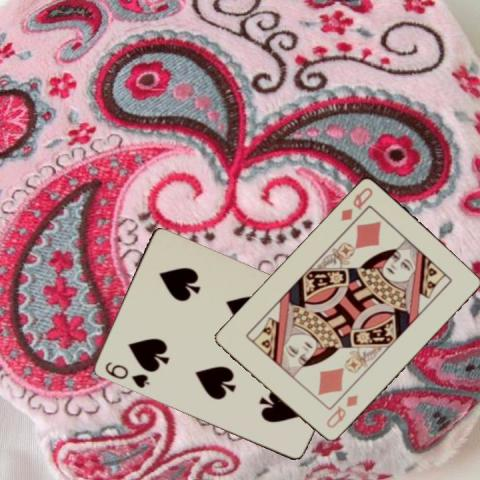6s: (101, 359, 151, 390)
Qd: (337, 183, 375, 223), (323, 392, 359, 430)
